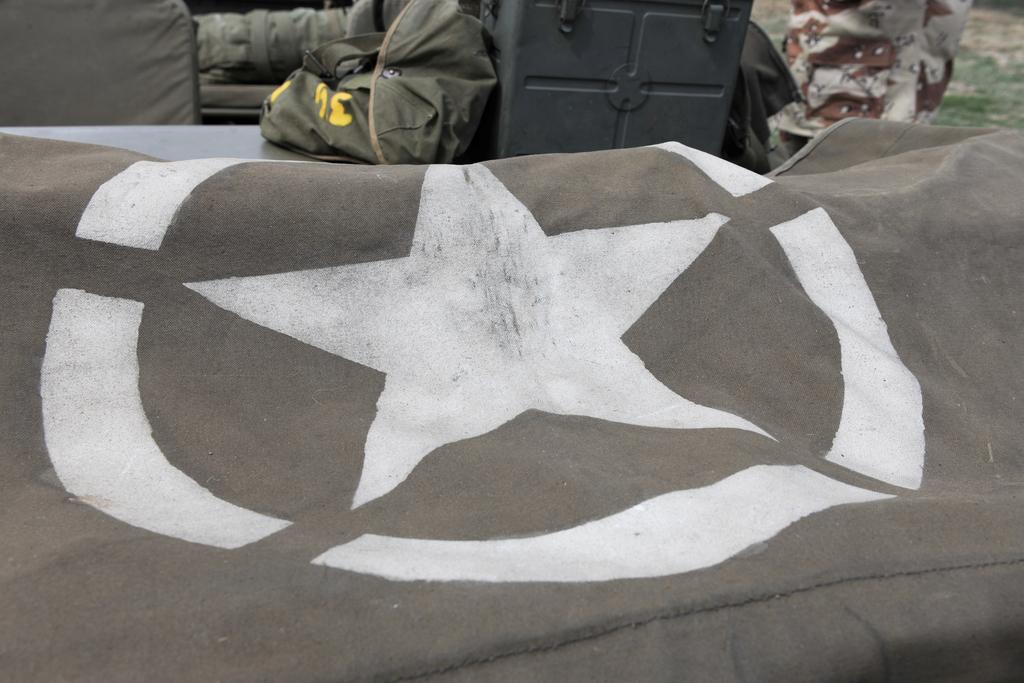Luggage-and-bags: (241, 22, 525, 142)
